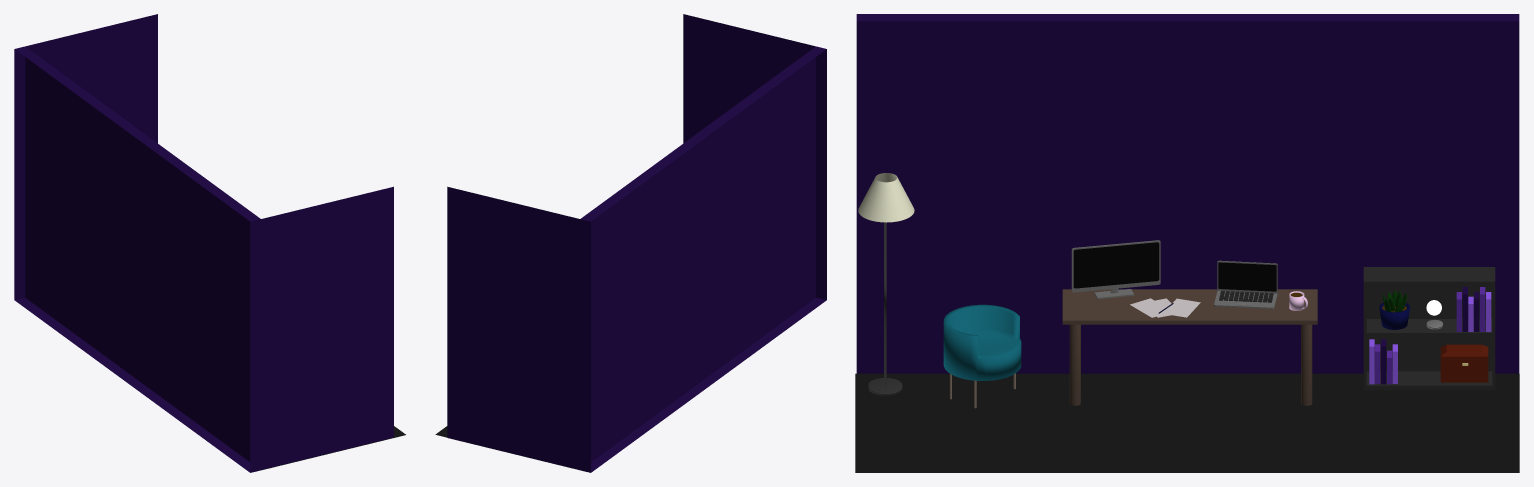
The picture shows the model from 3 angles, left to right: view 1: azimuth 30°, elevation 25°; view 2: azimuth 150°, elevation 25°; view 3: azimuth 270°, elevation 25°; orthographic projection. The views are drawn at different scales.
Parts seen in each view (by area): view 1: Walls; view 2: Walls; view 3: Walls, Rug, Shelf, Desk, Chair top, Monitor_screen, Lamp Shade, Cube, Screen, Monitor, Cylinder.001, Laptop.
Boxes of the visible parts, bbox=[...] form: Walls: bbox=[14, 14, 393, 472]; Walls: bbox=[447, 14, 826, 472]; Walls: bbox=[856, 14, 1519, 373]; Rug: bbox=[855, 373, 1519, 472]; Shelf: bbox=[1363, 267, 1495, 390]; Desk: bbox=[1062, 289, 1317, 405]; Chair top: bbox=[943, 304, 1021, 380]; Monitor_screen: bbox=[1073, 242, 1159, 288]; Lamp Shade: bbox=[858, 173, 914, 222]; Cube: bbox=[1440, 344, 1488, 382]; Screen: bbox=[1218, 262, 1276, 291]; Monitor: bbox=[1071, 240, 1160, 299]; Cylinder.001: bbox=[868, 222, 902, 395]; Laptop: bbox=[1214, 260, 1277, 309].
Size of the model in its own units: 8.13 by 12.61 by 21.41.
